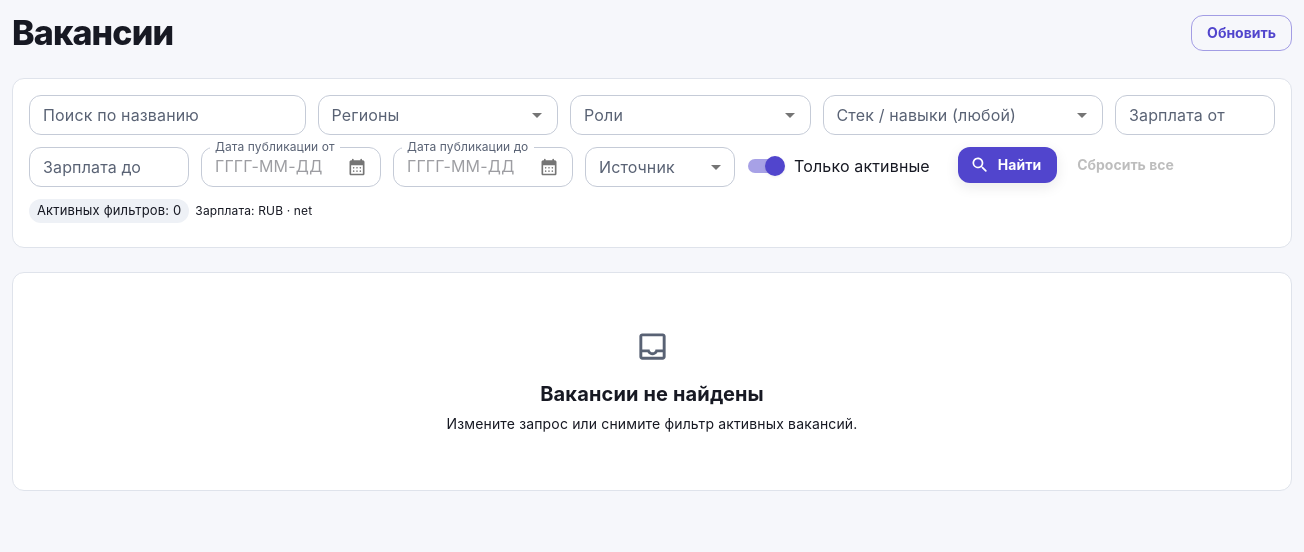
Test: VacanciesPage › shows date validation errors without blocking free-form typing
Expected: the heading "Вакансии не найдены" is shown, x1=540 y1=378 x2=764 y2=410
Type "2026-" into the field labelled "Дата публикации от". click: (274, 167)
box: x1=201 y1=147 x2=347 y2=187
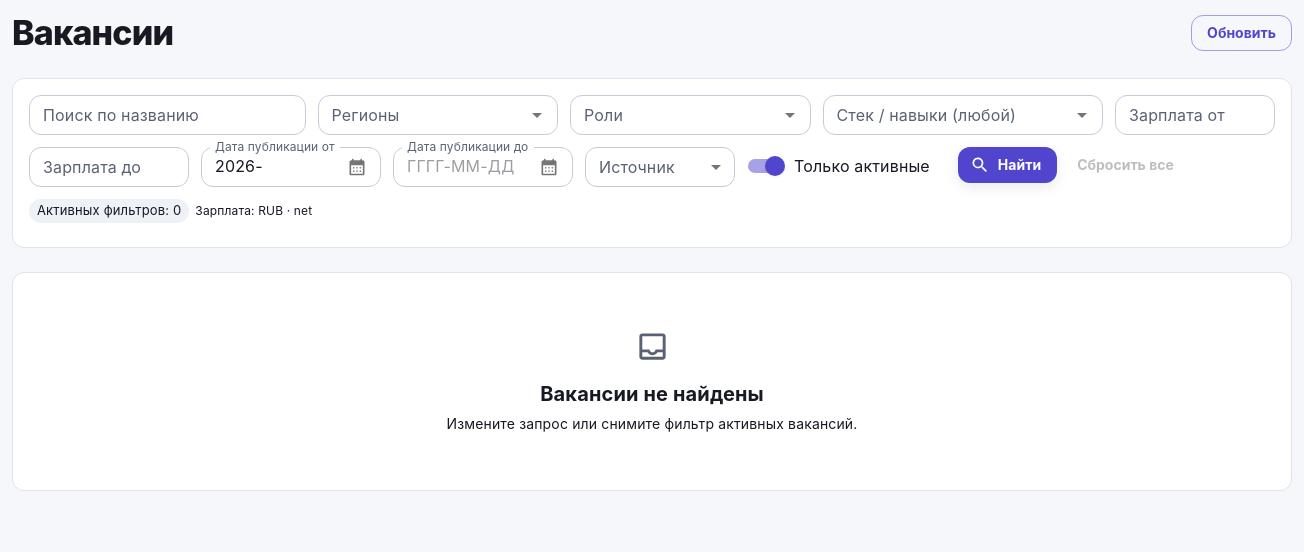
Replace the text in the field labelled "Дата публикации от" with "2026-08-04". click: (274, 167)
box: x1=201 y1=147 x2=347 y2=187
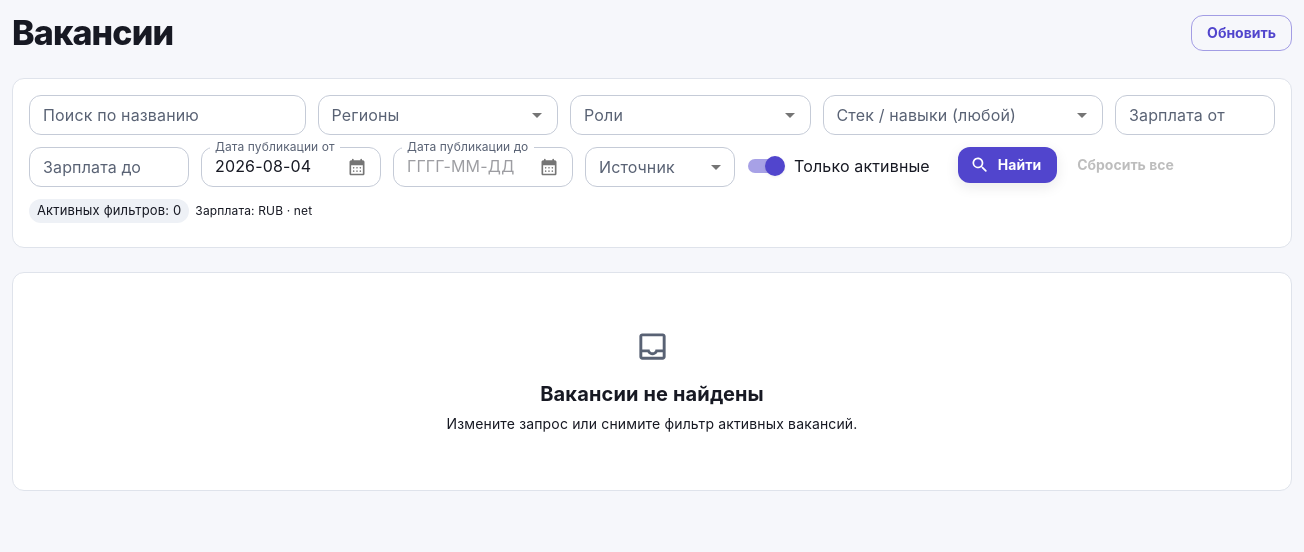
Type "2026-08-03" into the field labelled "Дата публикации до". click: (466, 167)
box: x1=393 y1=147 x2=539 y2=187
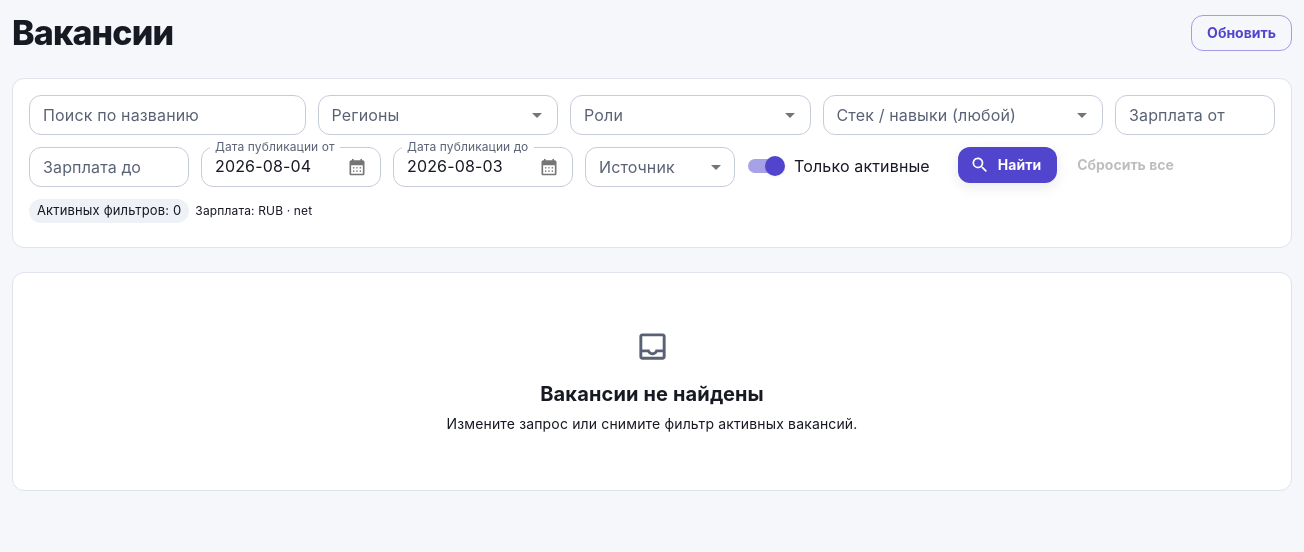
Click the button "Найти". click: (1008, 165)
box: x1=958 y1=147 x2=1057 y2=184
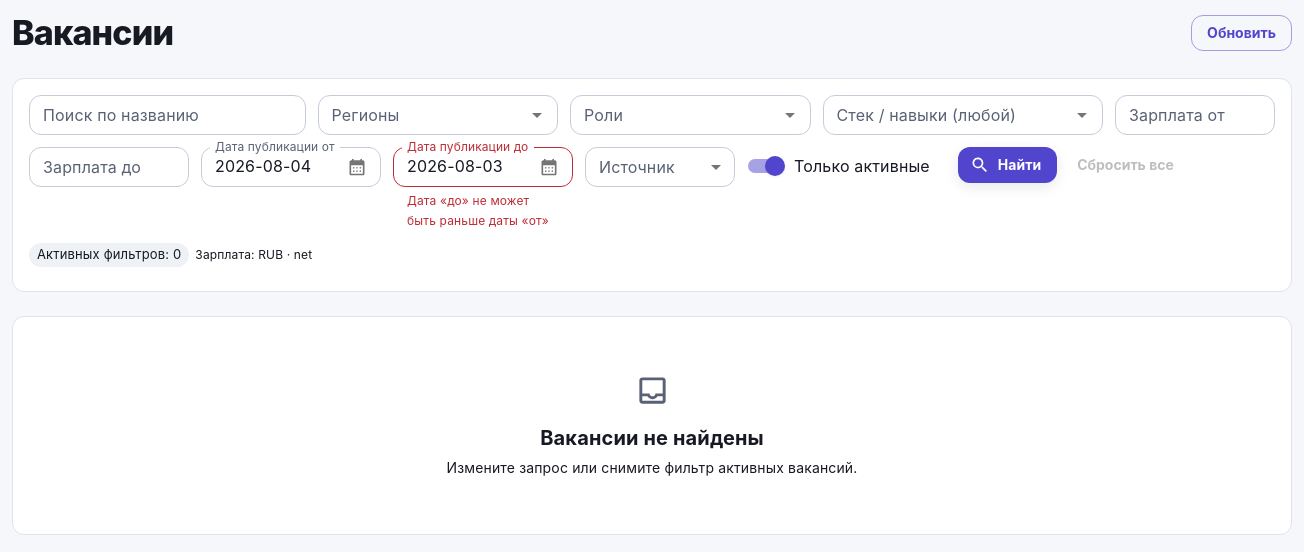
Expected: the text "Дата «до» не может быть раньше даты «от»" is shown, x1=407 y1=191 x2=559 y2=231
